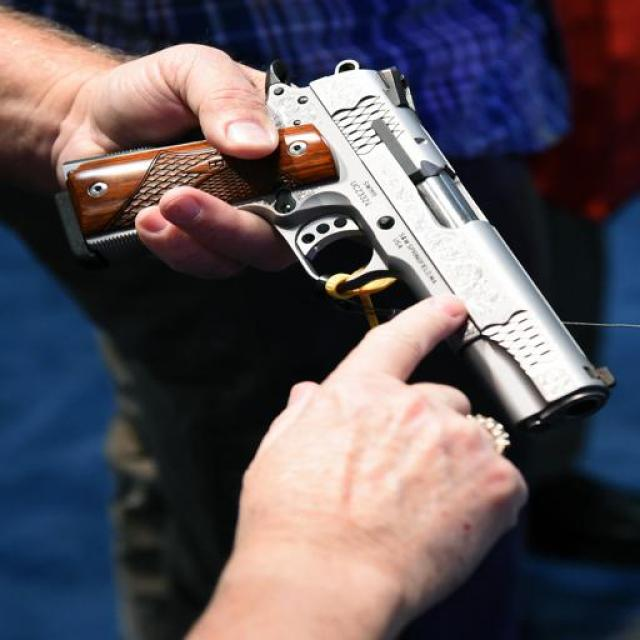pistol: (61, 55, 615, 445)
